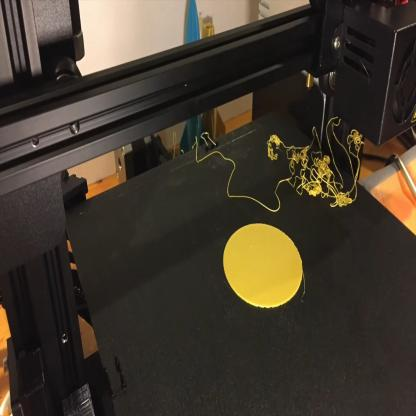fail: (261, 135, 366, 212)
